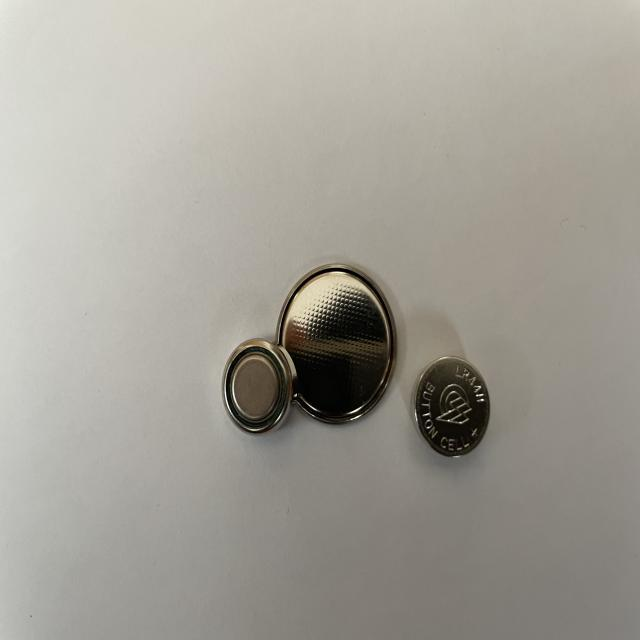COIN: (276, 264, 398, 428), (412, 356, 490, 456), (220, 338, 294, 436)
